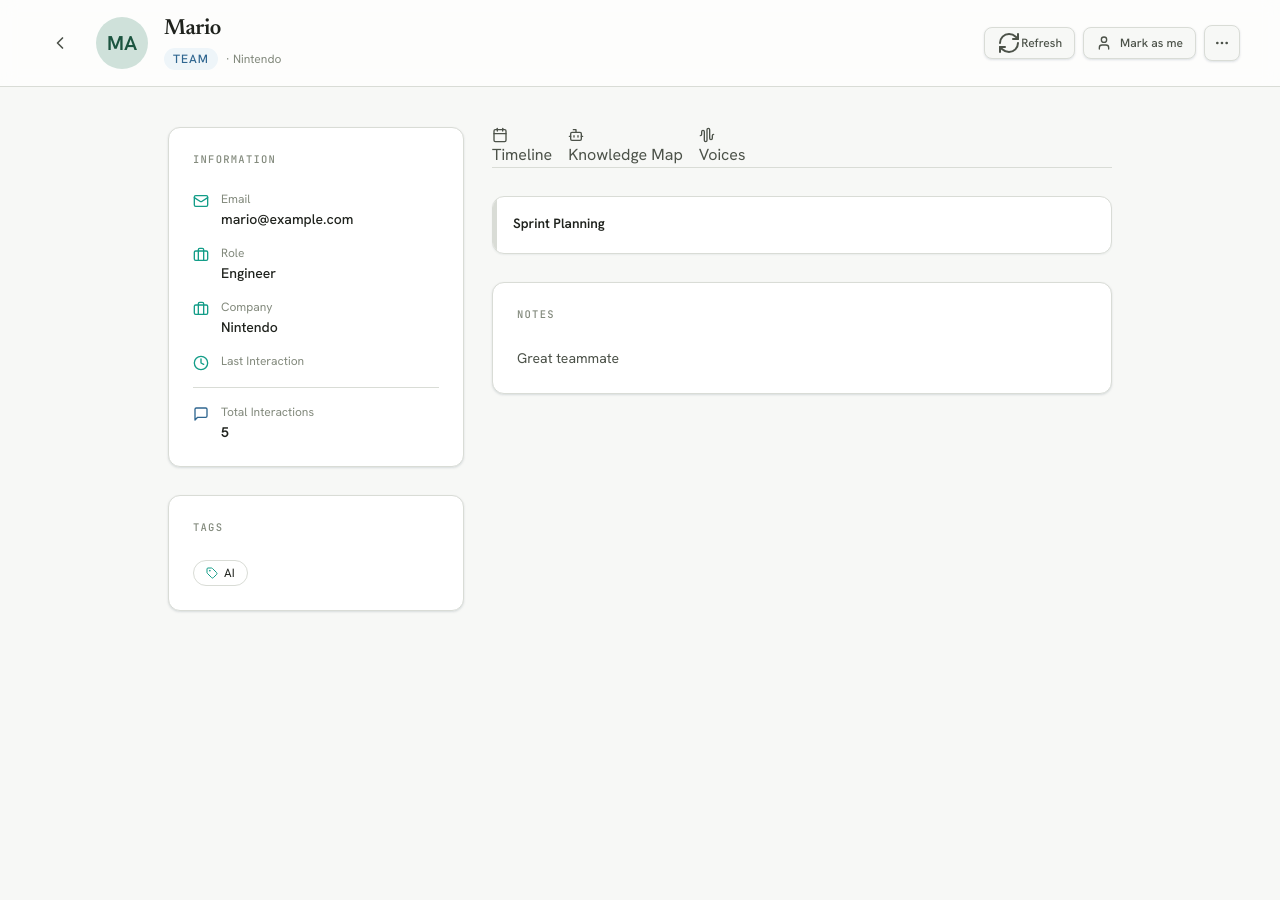
Test: PersonDetail Page › should cancel editing and restore original values
Expected: the heading "Mario" is shown, [164, 16, 221, 44]
Press the mouse on the button titled "Contact options" at (1222,43), box [1204, 25, 1240, 61]
Click the button titled "Contact options" at (1222,43), box [1204, 25, 1240, 61]
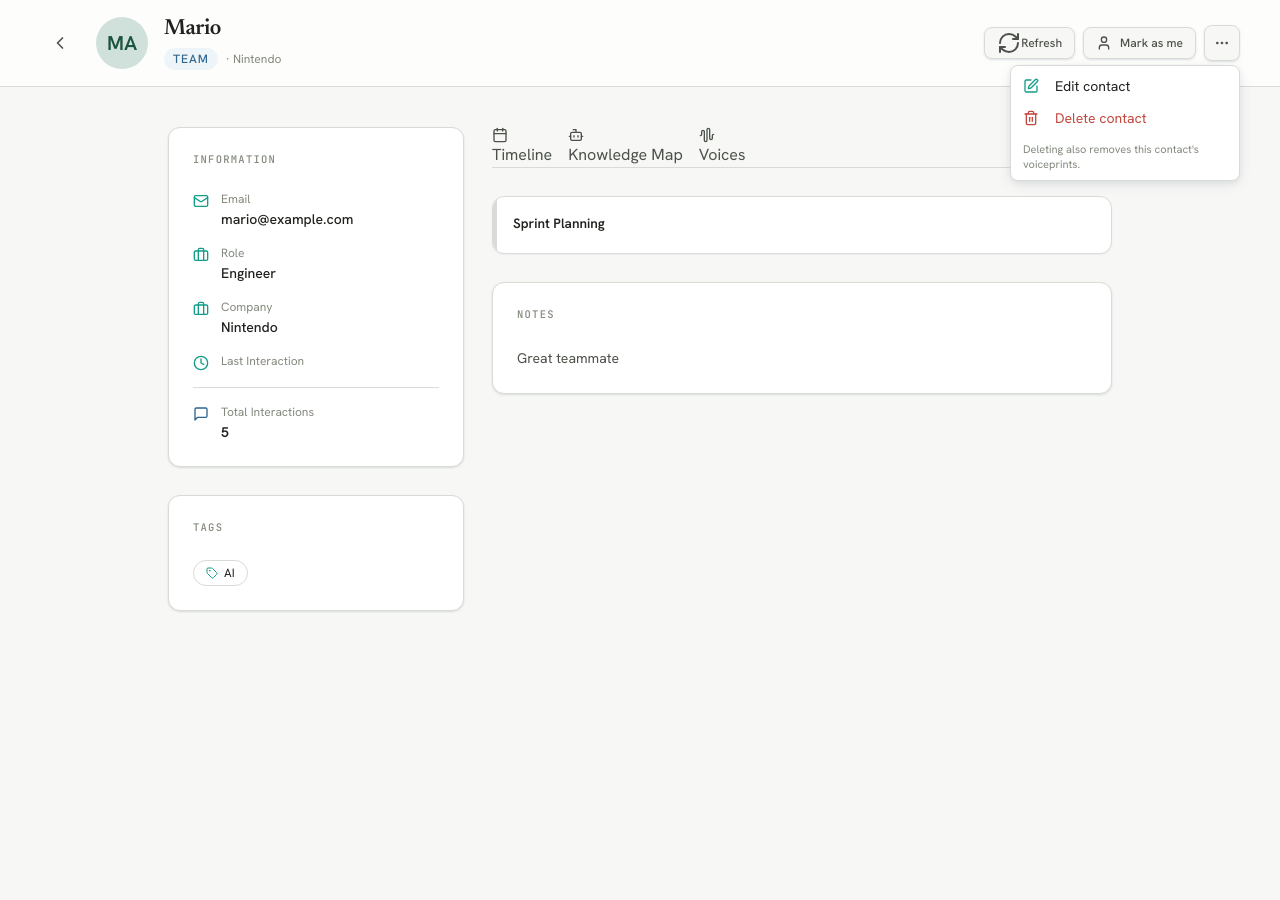
Click the menu item "Edit contact" at (1077,86), box [1023, 77, 1130, 95]
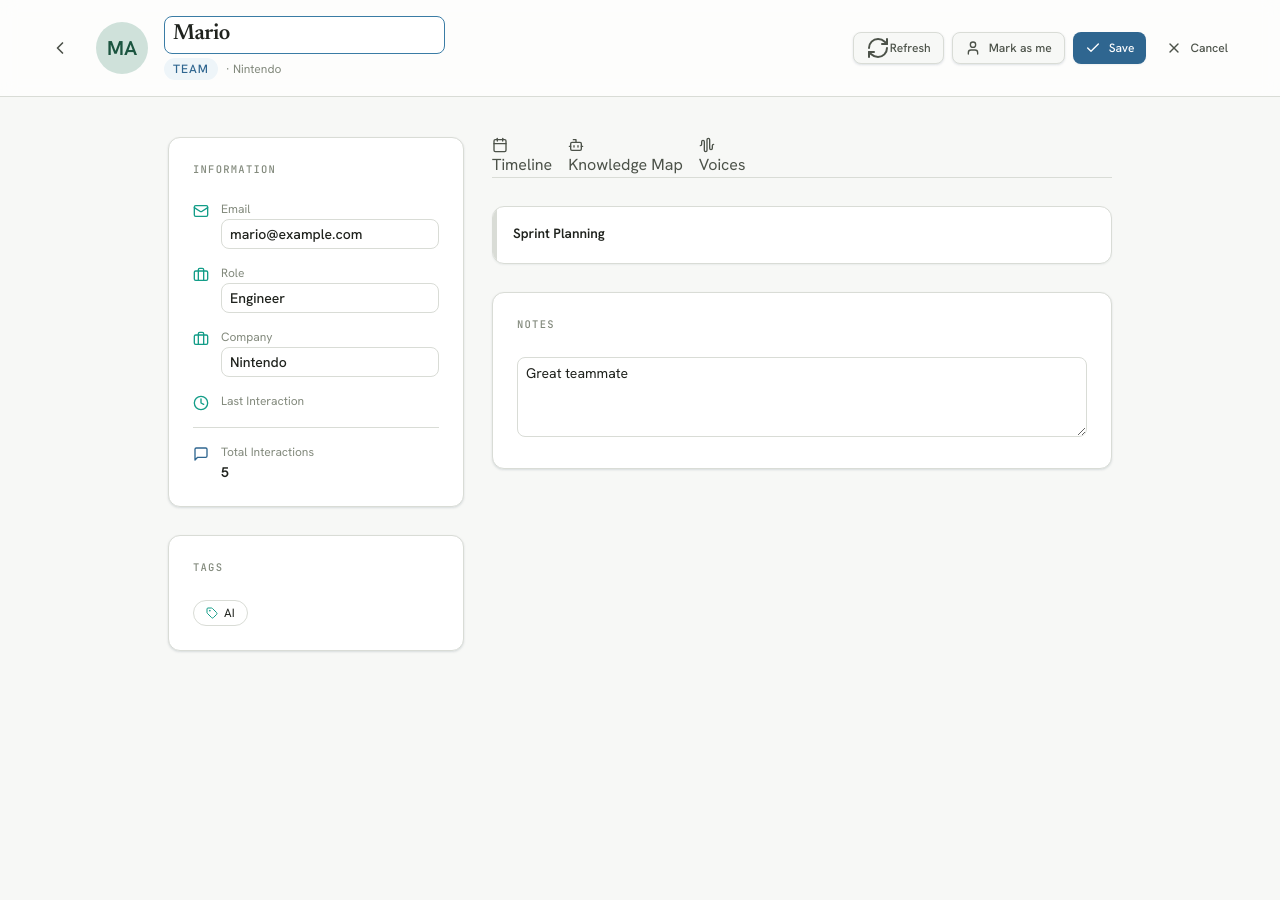
Replace the text in the 1st field with placeholder "Name..." with "Luigi" at (304,35), box [164, 16, 445, 54]
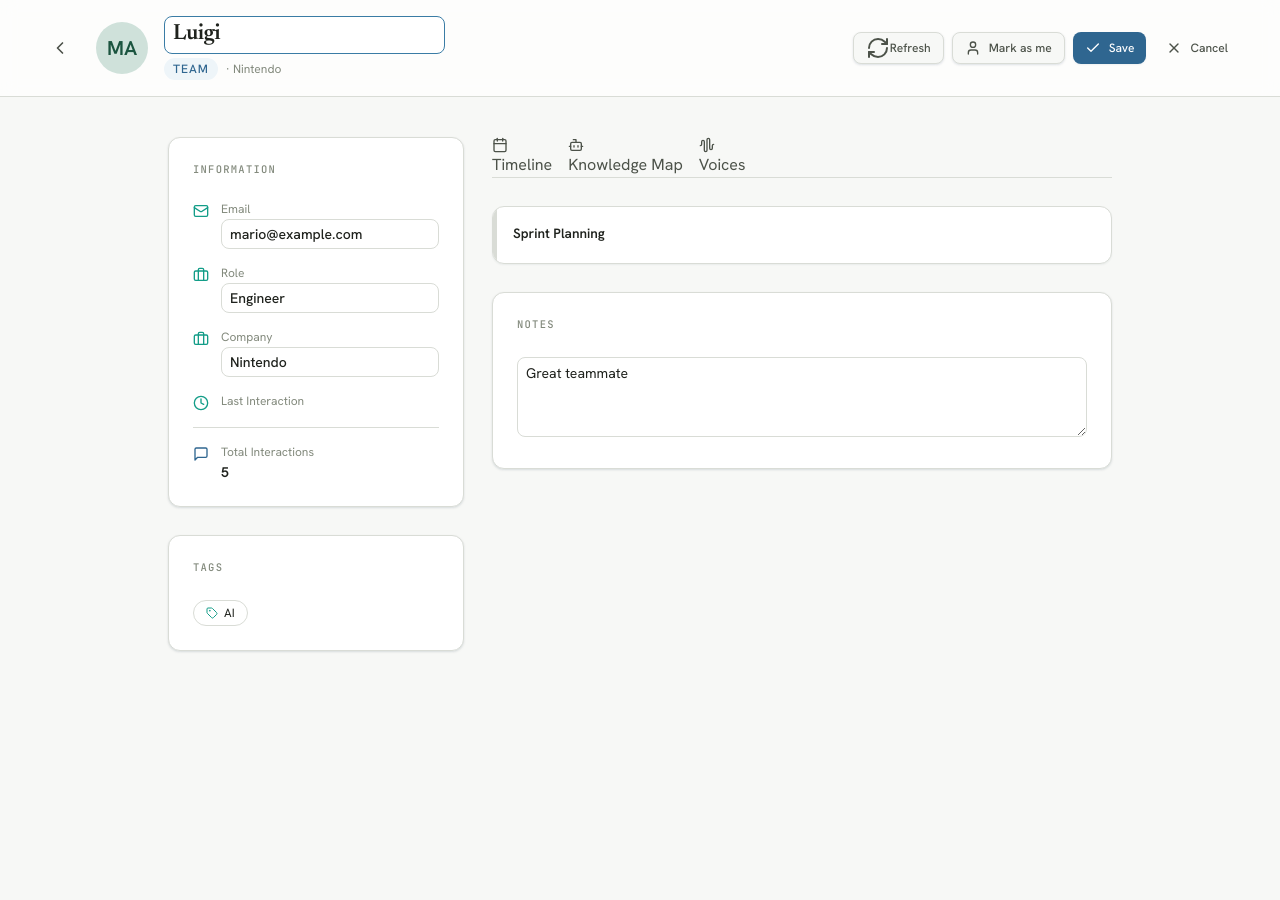
Click the button "Cancel" at (1197,48), box [1154, 32, 1240, 64]
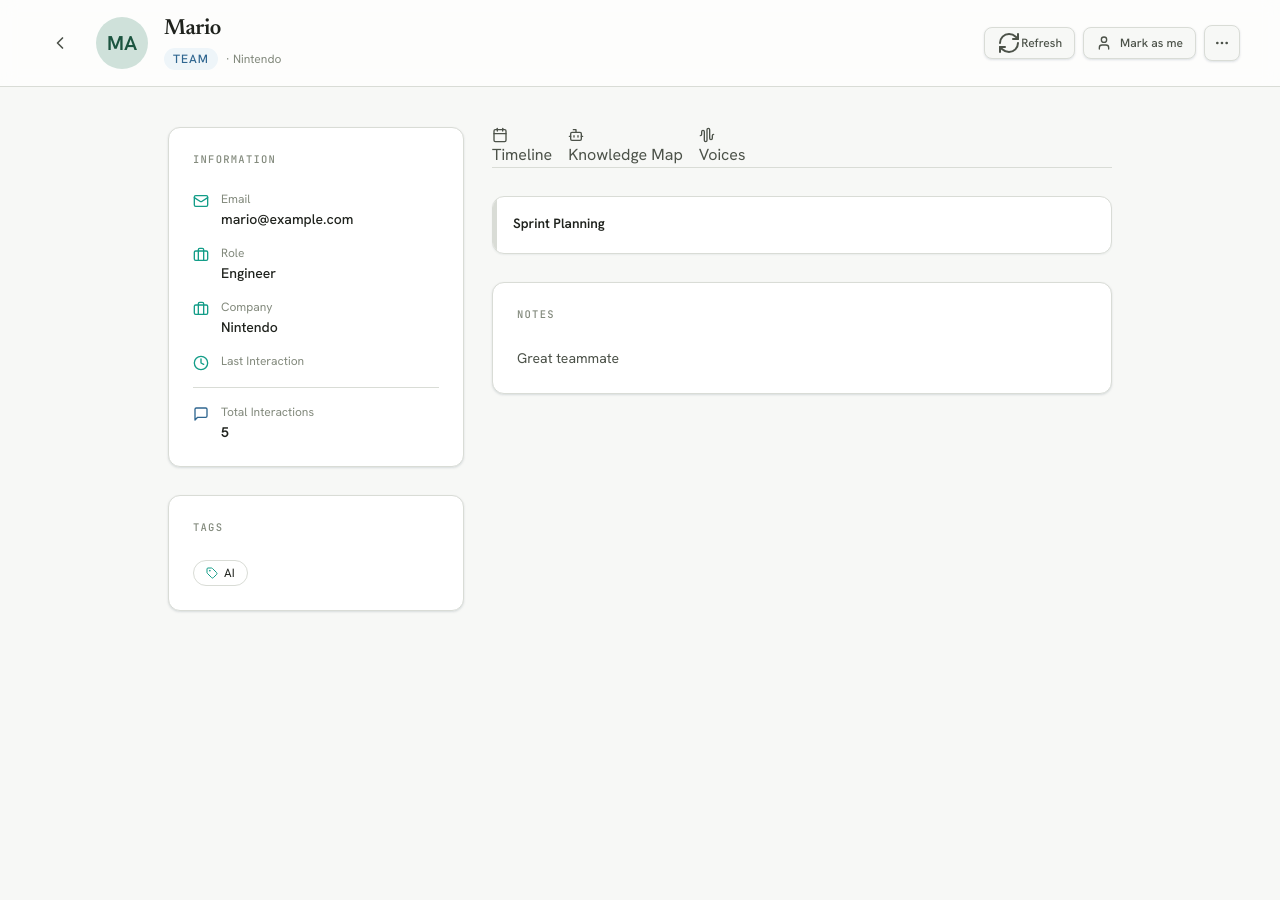
Expected: the heading "Mario" is shown, [164, 16, 221, 44]
